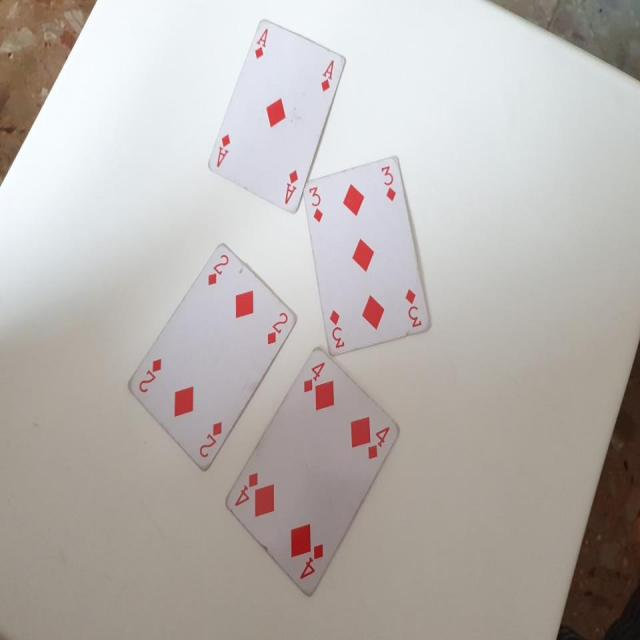2 Diamonds: (128, 237, 297, 474)
3 Diamonds: (306, 148, 433, 354)
4 Diamonds: (223, 344, 399, 603)
A Diamonds: (200, 10, 344, 229)
